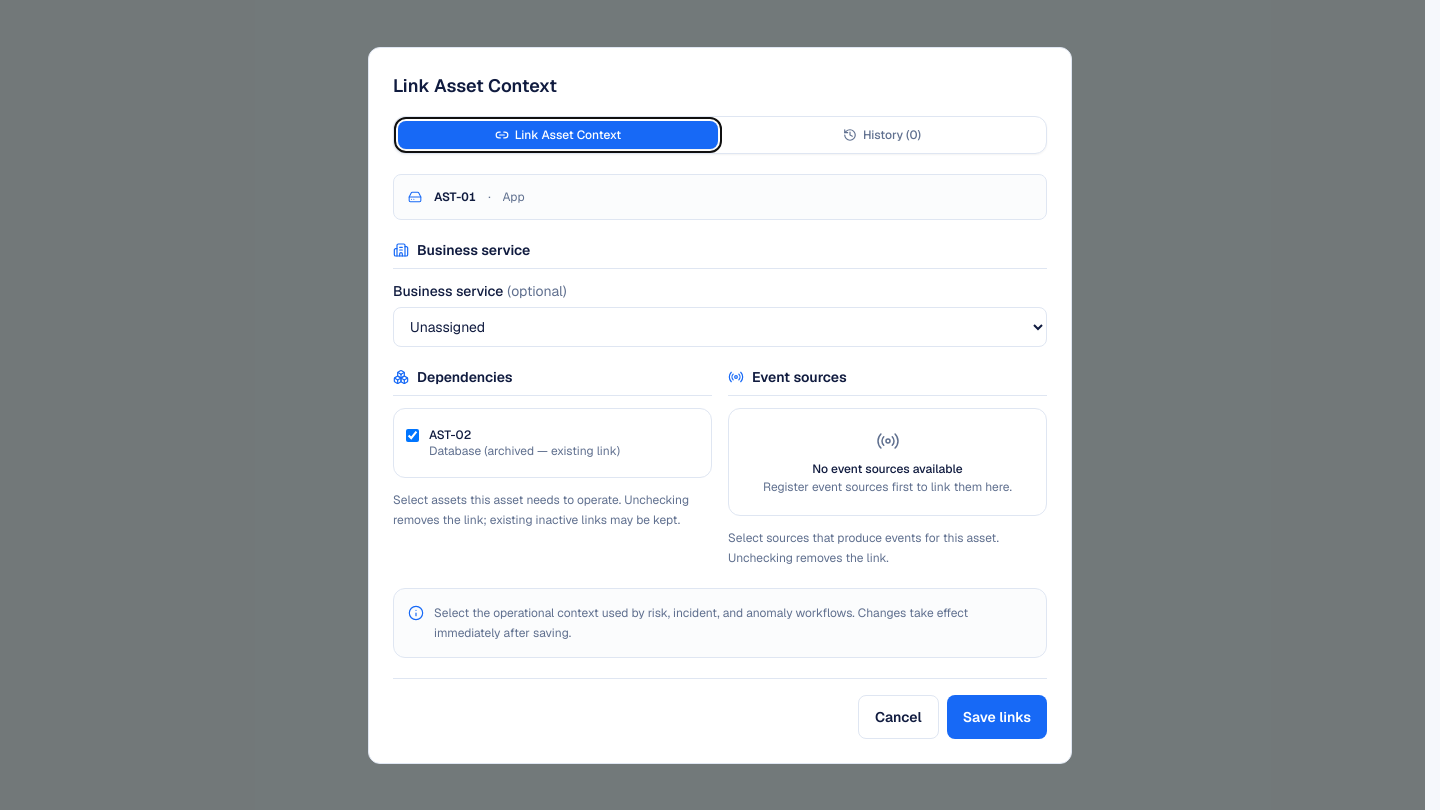
Test: LinkAssetContextDialog existing links › shows the circular path beside Dependencies and preserves selections
This screenshot has width=1440, height=810.
Click the button "Save links".
click(997, 716)  # box [947,694,1047,738]
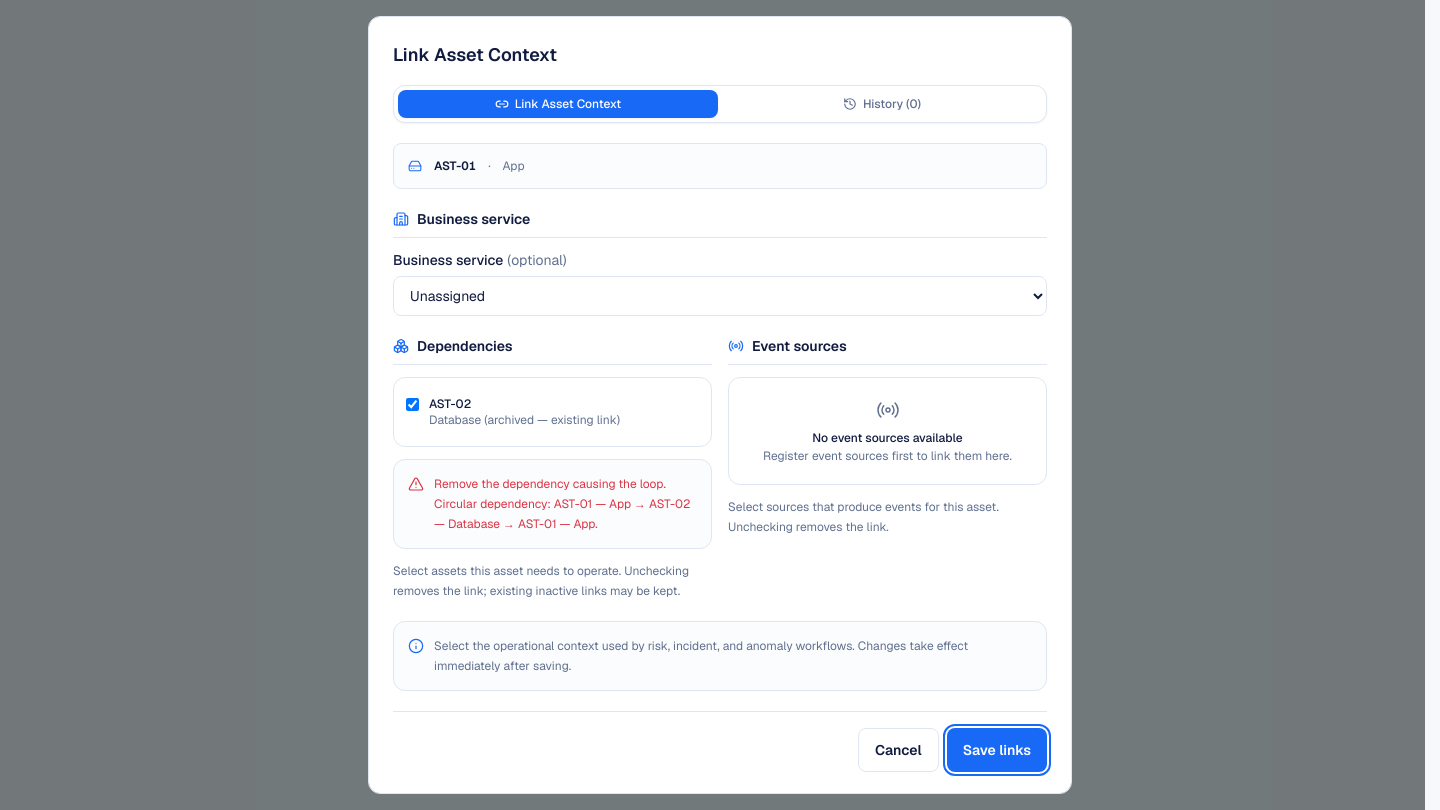
Expected: the checkbox labelled "AST-02 Database (archived — existing link)" is checked, [406,398,419,411]
Now the text "Circular dependency: AST-01 — App → AST-02 — Database → AST-01 — App" is shown, box [434,476,690,532]
